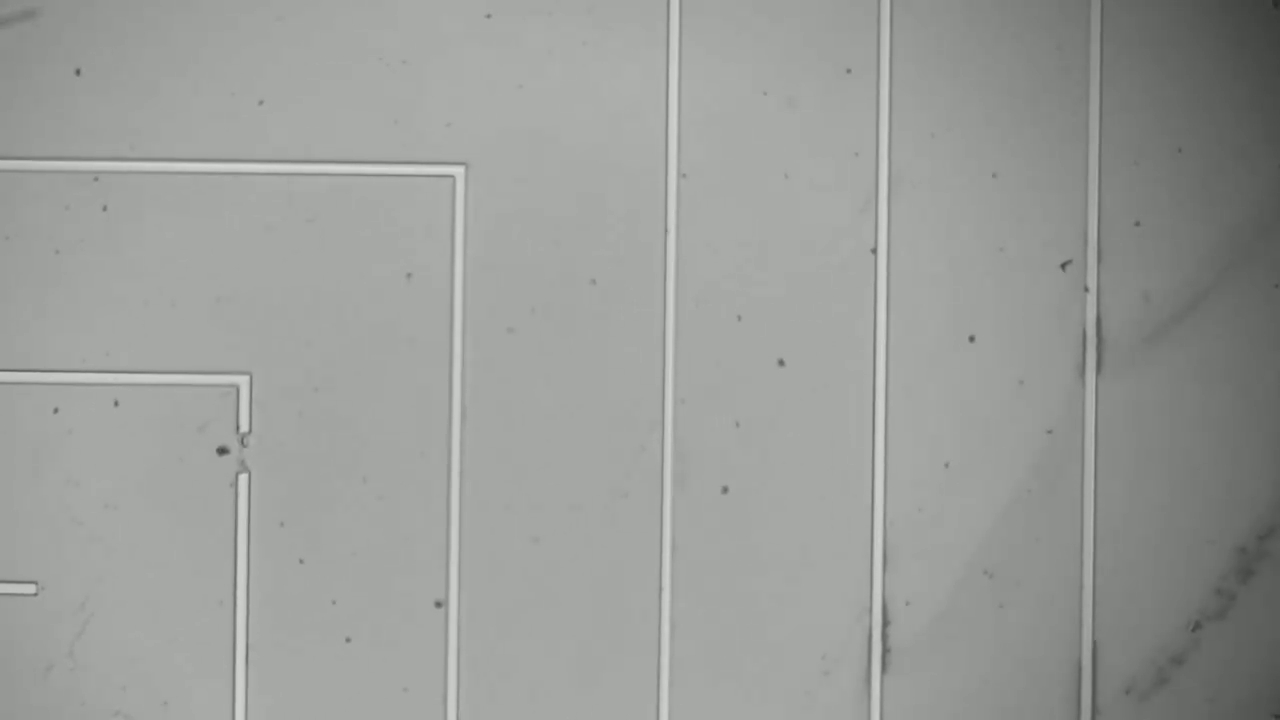open: (227, 413, 267, 491)
scratch: (1105, 508, 1278, 707)
